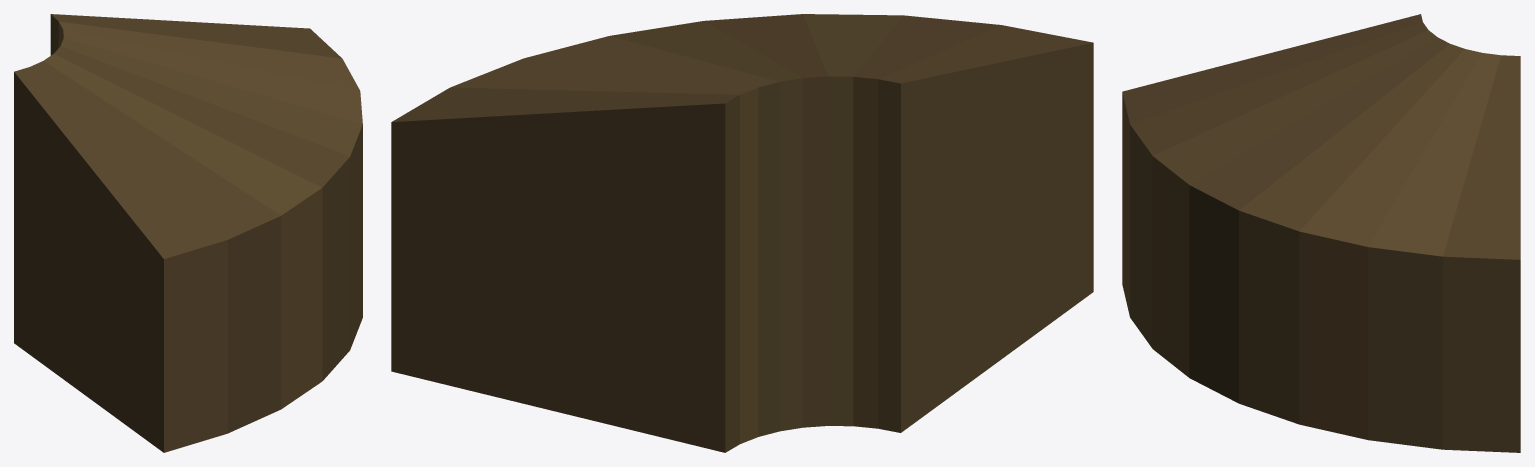
File: W12_River_Bank_Inner90.fbx
The picture shows the model from 3 angles, left to right: view 1: azimuth 30°, elevation 25°; view 2: azimuth 150°, elevation 25°; view 3: azimuth 270°, elevation 25°; orthographic projection. The views are drawn at different scales.
Parts seen in each view (by area): view 1: W12_River_Bank_Inner90; view 2: W12_River_Bank_Inner90; view 3: W12_River_Bank_Inner90.
Boxes of the visible parts, <box> form: W12_River_Bank_Inner90: <box>14,14,362,452</box>; W12_River_Bank_Inner90: <box>391,14,1093,452</box>; W12_River_Bank_Inner90: <box>1122,14,1520,452</box>.
Bounding box in the file's own units: 1 × 0.75 × 1.
1 material, 1 textured.
